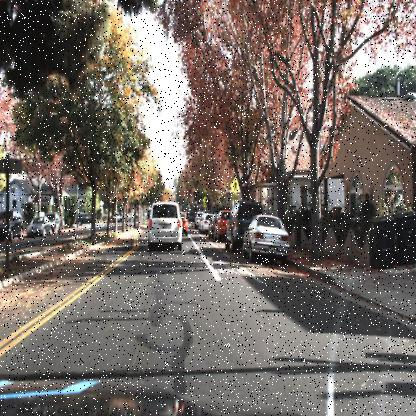car: (242, 208, 293, 264), (141, 195, 191, 249), (224, 198, 263, 251), (0, 206, 25, 245), (224, 202, 242, 251), (26, 212, 53, 241), (213, 207, 227, 242), (76, 210, 97, 228), (180, 207, 190, 239), (50, 210, 62, 235), (178, 206, 188, 236)
